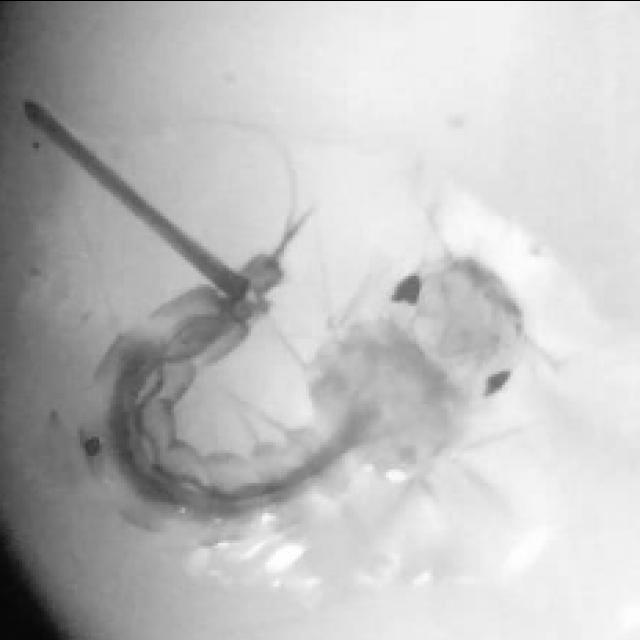larvas: (87, 230, 520, 525)
